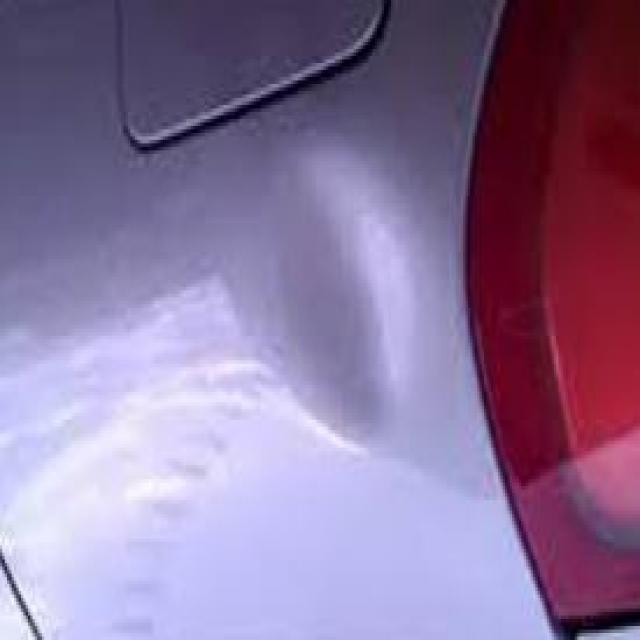dent: (193, 119, 417, 458)
